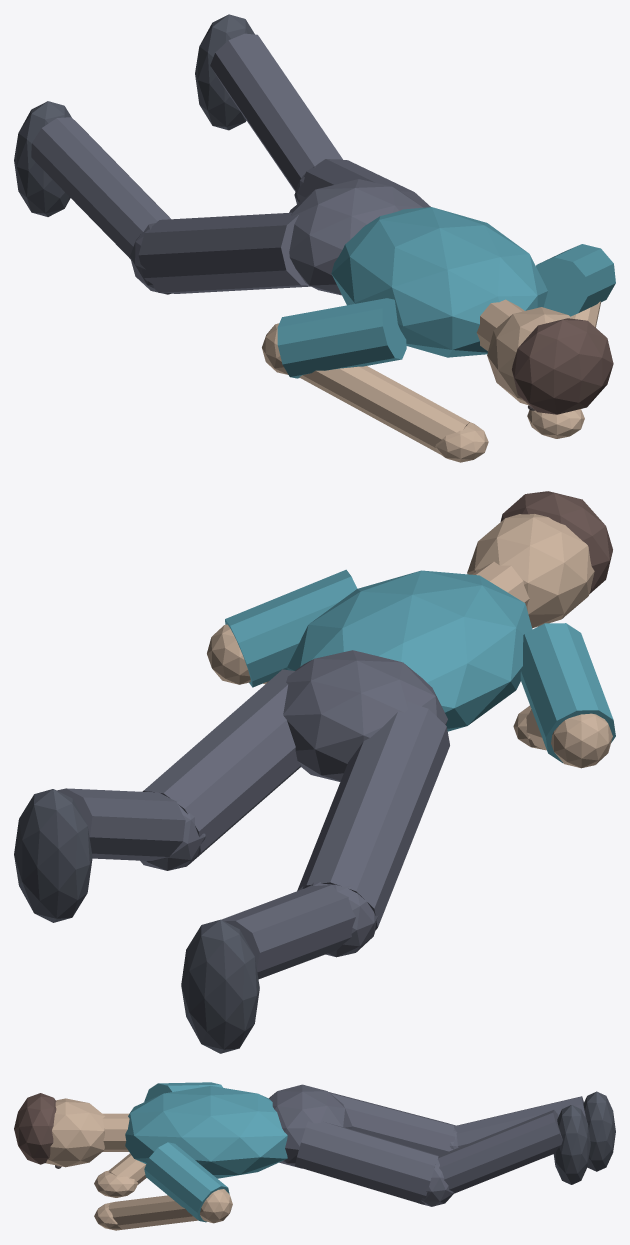
3 renders of one model, top to bottom at view 1: azimuth 30°, elevation 25°; view 2: azimuth 150°, elevation 25°; view 3: azimuth 270°, elevation 25°, orthographic. The views are drawn at different scales.
Parts seen in each view (by area): view 1: world; view 2: world; view 3: world.
Boxes of the visible parts, <box> form: world: <box>14,14,615,462</box>; world: <box>14,491,615,1053</box>; world: <box>14,1082,615,1230</box>.
Bounding box in the file's own units: 0.93 × 0.4638 × 2.04.
